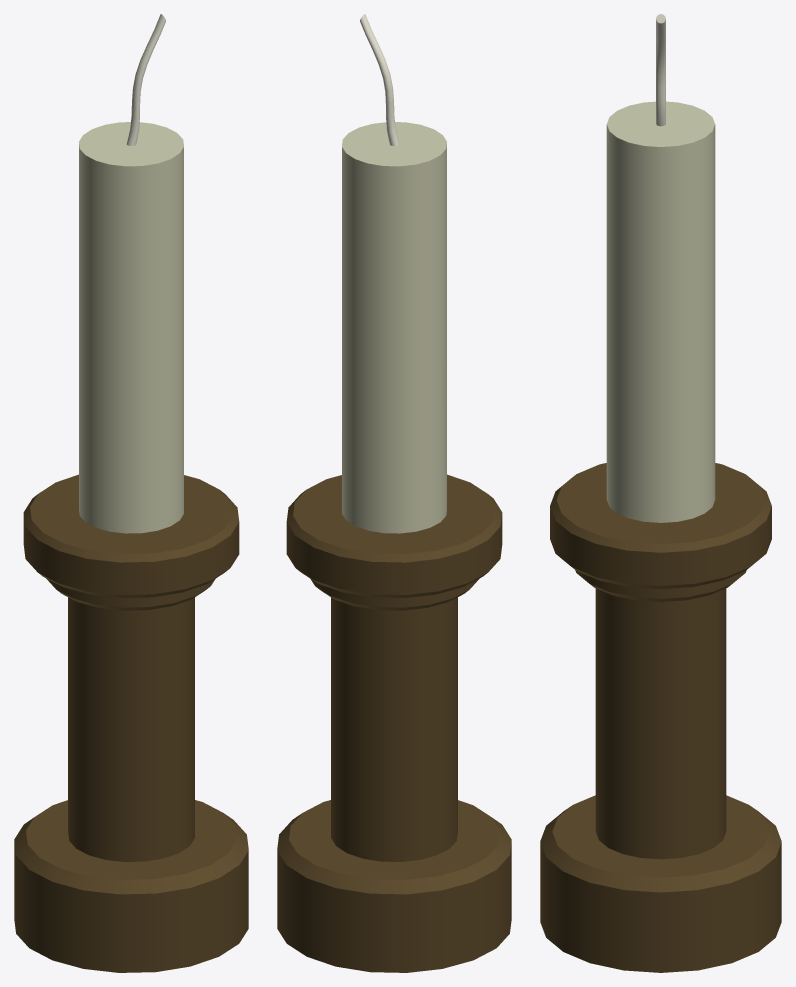
Rendered from Candle 1.fbx.
The picture shows the model from 3 angles, left to right: view 1: azimuth 30°, elevation 25°; view 2: azimuth 150°, elevation 25°; view 3: azimuth 270°, elevation 25°; orthographic projection. The views are drawn at different scales.
Parts seen in each view (by area): view 1: polySurface284; view 2: polySurface284; view 3: polySurface284.
Boxes of the visible parts, box(x1,y1,x2,y2) form: polySurface284: box(14, 14, 248, 972); polySurface284: box(277, 14, 511, 972); polySurface284: box(540, 14, 781, 972).
Bounding box in the file's own units: 0.4013 × 1.69 × 0.4013.
